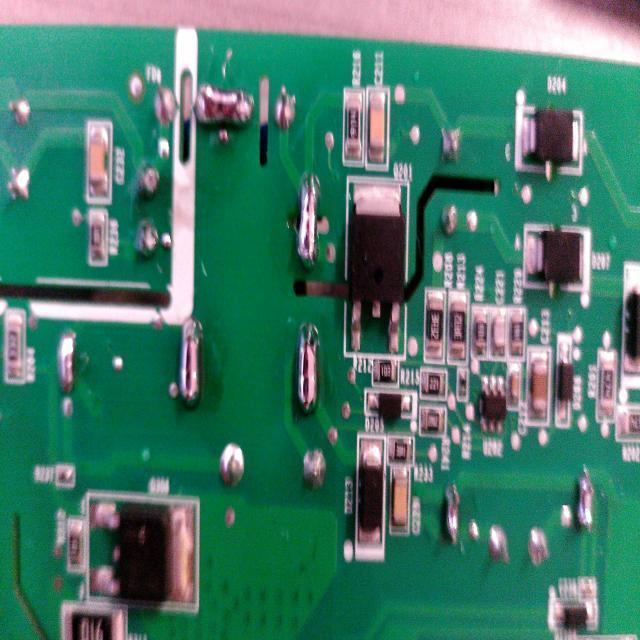Soldering shorted: (190, 80, 258, 128), (296, 315, 322, 420), (178, 310, 203, 410), (297, 167, 320, 273), (574, 458, 596, 538), (444, 476, 461, 543)
